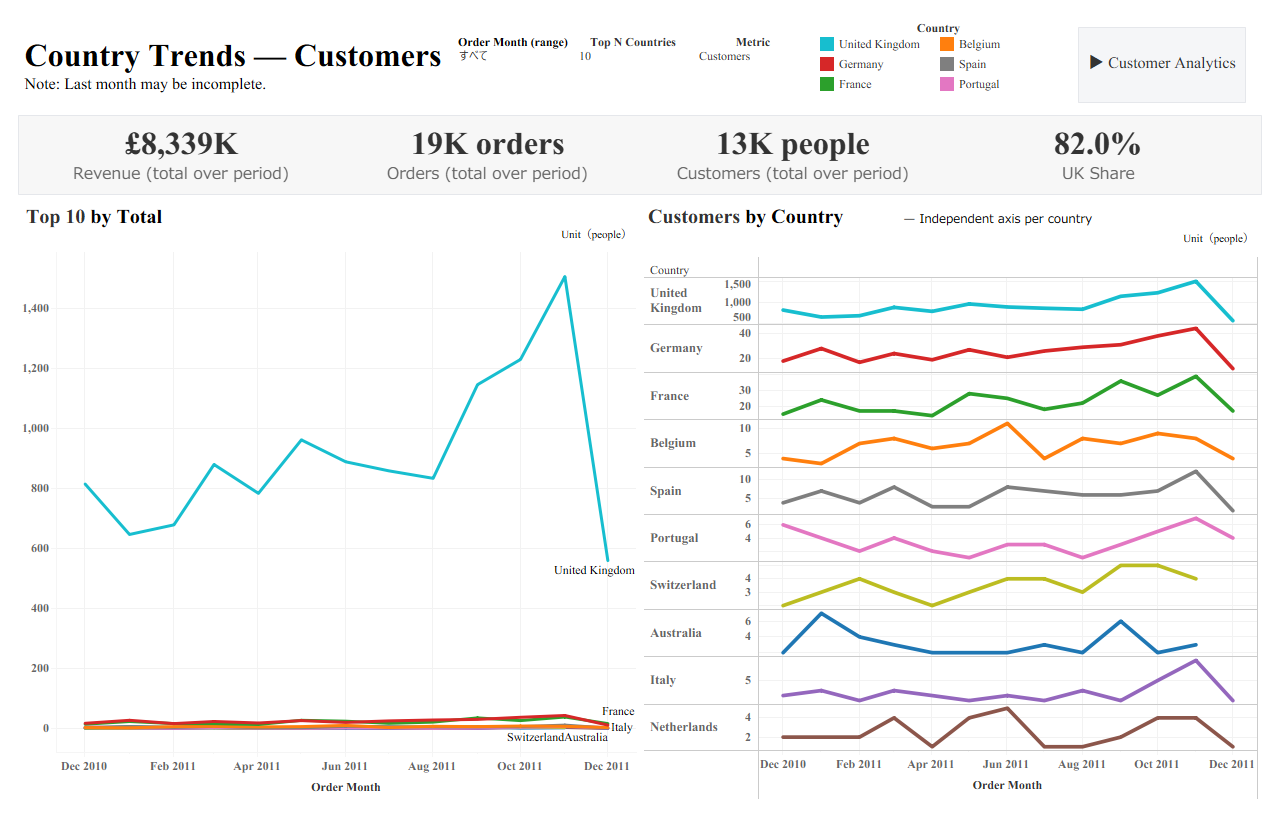

The page's visual inventory and layout, read from the dashboard file:
{"tool":"tableau","page":{"name":"Country Trends — Customers","canvas":[1280,820],"ordinal":0},"visuals":[{"type":"blank","box":[453,15,120,15]},{"type":"blank","box":[573,15,120,15]},{"type":"blank","box":[693,15,120,15]},{"type":"text","box":[18.3,15.4,434.5,100]},{"type":"legend","title":"Abs - Metric by Country","param":"[federated.0mh1n6j1pskiuc11mp10r0ls5gw1].[none:country:nk]","box":[812.7,15.4,249,100]},{"type":"dashboard-object","box":[1061.7,15.4,200,100]},{"type":"filter","title":"Abs - Metric by Country","param":"[federated.0mh1n6j1pskiuc11mp10r0ls5gw1].[my:Calculation_2871889231802839051:ok]","box":[453,30,120,70]},{"type":"parameter","param":"[Parameters].[Top N Customers (コピー 2)]","box":[573,30,120,70]},{"type":"parameter","param":"[Parameters].[Top N Customers (コピー)]","box":[693,30,120,65]},{"type":"blank","box":[693,95,120,15]},{"type":"blank","box":[453,100,120,15]},{"type":"blank","box":[573,100,120,15]},{"type":"worksheet","title":"KPI — Total Revenue","mark":"Automatic","box":[29,126,306,58]},{"type":"worksheet","title":"KPI — Orders","mark":"Automatic","box":[335,126,306,58]},{"type":"worksheet","title":"KPI — Active Customers","mark":"Automatic","box":[641,126,305,58]},{"type":"worksheet","title":"KPI — UK Share","mark":"Automatic","box":[946,126,305,58]},{"type":"worksheet","title":"Abs - Metric by Country","mark":"Line","rows":["Calculation_2871889231783747594"],"cols":["order_month (channel_month.csv)"],"box":[18,195,622,610]},{"type":"worksheet","title":"SM - Metric by Country (Independent Axis)","mark":"Line","rows":["country","Calculation_2871889231783747594"],"cols":["order_month (channel_month.csv)"],"box":[640,195,622,610]}]}

Visuals, with their boxes in screenshot pixels (x1, y1, x2, y2), scaled from the page's 1280x820 canvas onto the 1280x820 screenshot:
blank: 453:15:573:30
blank: 573:15:693:30
blank: 693:15:813:30
text: 18:15:453:115
"Abs - Metric by Country" legend: 813:15:1062:115
dashboard-object: 1062:15:1262:115
"Abs - Metric by Country" filter: 453:30:573:100
parameter: 573:30:693:100
parameter: 693:30:813:95
blank: 693:95:813:110
blank: 453:100:573:115
blank: 573:100:693:115
"KPI — Total Revenue" worksheet: 29:126:335:184
"KPI — Orders" worksheet: 335:126:641:184
"KPI — Active Customers" worksheet: 641:126:946:184
"KPI — UK Share" worksheet: 946:126:1251:184
"Abs - Metric by Country" worksheet (Line marks): 18:195:640:805
"SM - Metric by Country (Independent Axis)" worksheet (Line marks): 640:195:1262:805
